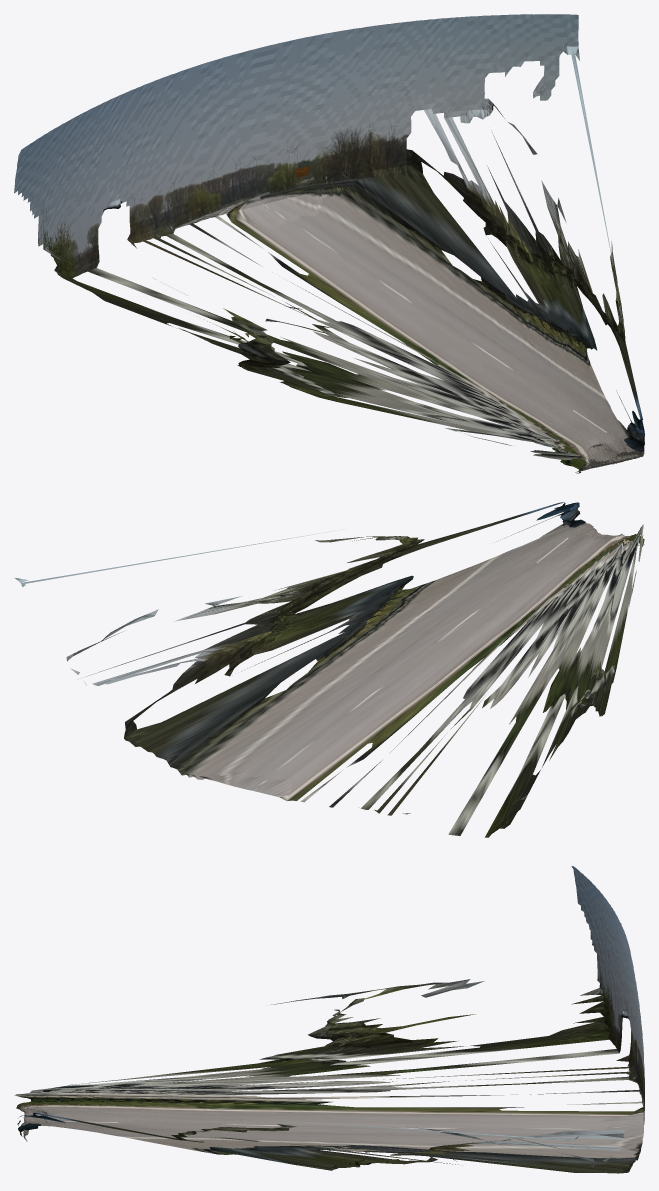
3 renders of one model, top to bottom at view 1: azimuth 30°, elevation 25°; view 2: azimuth 150°, elevation 25°; view 3: azimuth 270°, elevation 25°, orthographic. The views are drawn at different scales.
Visible parts, largest first — view 1: defaultobject; view 2: defaultobject; view 3: defaultobject.
Boxes of the visible parts, x1,y1,x2,y2 form: defaultobject: (14,14,644,473); defaultobject: (14,502,644,837); defaultobject: (14,866,644,1173).
Size of the model in its own units: 40.88 by 11.99 by 44.68.
Materials: 1 (1 with a texture image).
